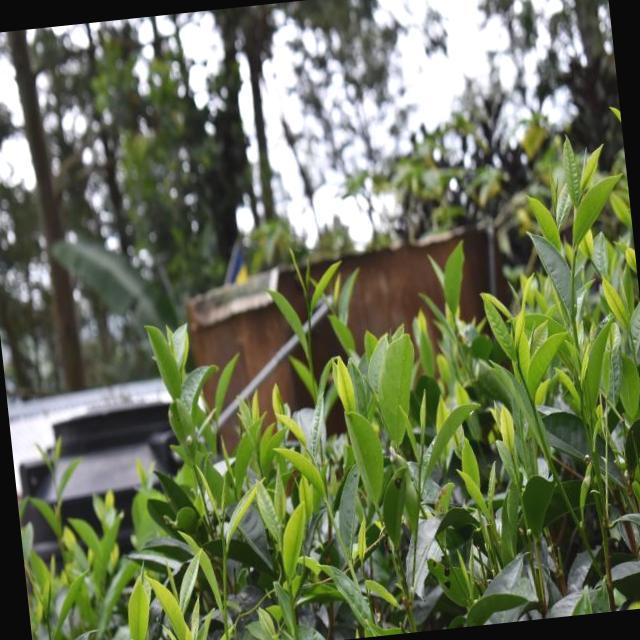Stem: (572, 246, 577, 256), (308, 312, 311, 319), (517, 360, 519, 367)
